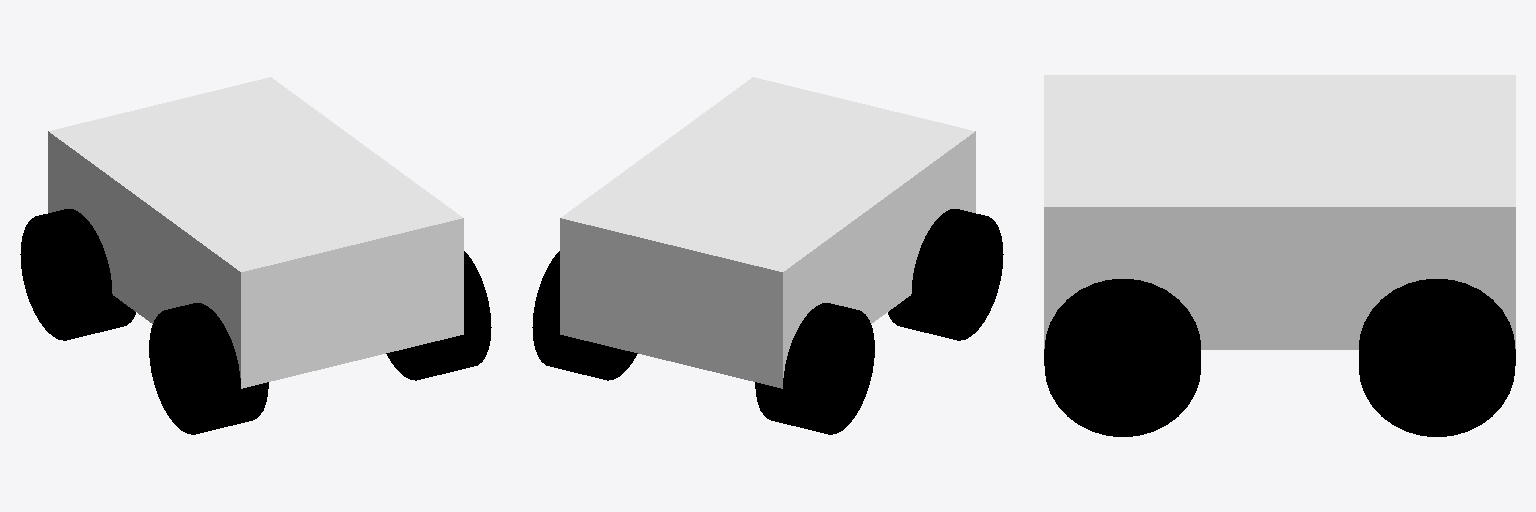
robot.urdf — robot1_simulation:
<?xml version="1.0" ?>
<!-- =================================================================================== -->
<!-- |    This document was autogenerated by xacro from robot1_simulation.xacro        | -->
<!-- |    EDITING THIS FILE BY HAND IS NOT RECOMMENDED                                 | -->
<!-- =================================================================================== -->
<robot name="robot1_simulation" xmlns:xacro="http://ros.org/wiki/xacro">
    <material name="black">
        <color rgba="0 0 0 1"/>
    </material>
    <link name="base_link"/>
    <joint name="body1_joint" type="fixed">
        <parent link="base_link"/>
        <child link="body_link"/>
        <origin rpy="0 0 0" xyz="0 0 0.075"/>
    </joint>
    <link name="body_link">
        <visual>
        <geometry>
            <box size="0.2 0.3 0.1"/>
        </geometry>
        <origin rpy="0 0 0" xyz="0 0 0"/>
        <material name="white">
            <color rgba="1 1 1 1"/>
        </material>
        </visual>
        <inertial>
        <origin rpy="0 0 0" xyz="0 0 0"/>
        <mass value="0.1"/>
        <inertia ixx="1" ixy="0" ixz="0" iyy="1" iyz="0" izz="1"/>
        </inertial>
        <collision>
        <origin rpy="0 0 0" xyz="0 0 0"/>
        <geometry>
            <cylinder length="0.048" radius="0.05"/>
        </geometry>
        </collision>
    </link>
    <gazebo reference="body_link">
        <material>Gazebo/white</material>
    </gazebo>
    <joint name="base_to_wheel1" type="continuous">
        <origin rpy="0 -1.57079632679 0" xyz="0.1 0.1 -0.05"/>
        <parent link="body_link"/>
        <child link="wheel1"/>
        <axis xyz="0 0 1"/>
        <!-- <limit lower="-1" upper="1" effort="1000" velocity="0.5"/> -->
    </joint>
    <link name="wheel1">
        <visual>
        <geometry>
            <cylinder length="0.05" radius="0.05"/>
        </geometry>
        <origin rpy="0 0 0" xyz="0 0 0"/>
        <material name="black"/>
        </visual>
        <inertial>
        <origin rpy="0 0 0" xyz="0 0 0"/>
        <mass value="0.1"/>
        <inertia ixx="1" ixy="0" ixz="0" iyy="1" iyz="0" izz="1"/>
        </inertial>
        <collision>
        <origin rpy="0 0 0" xyz="0 0 0"/>
        <geometry>
            <cylinder length="0.048" radius="0.05"/>
        </geometry>
        </collision>
    </link>
    <gazebo reference="wheel1">
        <material>Gazebo/black</material>
    </gazebo>
    <joint name="base_to_wheel2" type="continuous">
        <origin rpy="0 -1.57079632679 0" xyz="-0.1 0.1 -0.05"/>
        <parent link="body_link"/>
        <child link="wheel2"/>
        <axis xyz="0 0 1"/>
        <!-- <limit lower="-1" upper="1" effort="1000" velocity="0.5"/> -->
    </joint>
    <link name="wheel2">
        <visual>
        <geometry>
            <cylinder length="0.05" radius="0.05"/>
        </geometry>
        <origin rpy="0 0 0" xyz="0 0 0"/>
        <material name="black"/>
        </visual>
        <inertial>
        <origin rpy="0 0 0" xyz="0 0 0"/>
        <mass value="0.1"/>
        <inertia ixx="1" ixy="0" ixz="0" iyy="1" iyz="0" izz="1"/>
        </inertial>
        <collision>
        <origin rpy="0 0 0" xyz="0 0 0"/>
        <geometry>
            <cylinder length="0.048" radius="0.05"/>
        </geometry>
        </collision>
    </link>
    <gazebo reference="wheel2">
        <material>Gazebo/black</material>
    </gazebo>
    <joint name="base_to_wheel3" type="continuous">
        <origin rpy="0 -1.57079632679 0" xyz="0.1 -0.1 -0.05"/>
        <parent link="body_link"/>
        <child link="wheel3"/>
        <axis xyz="0 0 1"/>
        <!-- <limit lower="-1" upper="1" effort="1000" velocity="0.5"/> -->
    </joint>
    <link name="wheel3">
        <visual>
        <geometry>
            <cylinder length="0.05" radius="0.05"/>
        </geometry>
        <origin rpy="0 0 0" xyz="0 0 0"/>
        <material name="black"/>
        </visual>
        <inertial>
        <origin rpy="0 0 0" xyz="0 0 0"/>
        <mass value="0.1"/>
        <inertia ixx="1" ixy="0" ixz="0" iyy="1" iyz="0" izz="1"/>
        </inertial>
        <collision>
        <origin rpy="0 0 0" xyz="0 0 0"/>
        <geometry>
            <cylinder length="0.048" radius="0.05"/>
        </geometry>
        </collision>
    </link>
    <gazebo reference="wheel3">
        <material>Gazebo/black</material>
    </gazebo>
    <joint name="base_to_wheel4" type="continuous">
        <origin rpy="0 -1.57079632679 0" xyz="-0.1 -0.1 -0.05"/>
        <parent link="body_link"/>
        <child link="wheel4"/>
        <axis xyz="0 0 1"/>
        <!-- <limit lower="-1" upper="1" effort="1000" velocity="0.5"/> -->
    </joint>
    <link name="wheel4">
        <visual>
        <geometry>
            <cylinder length="0.05" radius="0.05"/>
        </geometry>
        <origin rpy="0 0 0" xyz="0 0 0"/>
        <material name="black"/>
        </visual>
        <inertial>
        <origin rpy="0 0 0" xyz="0 0 0"/>
        <mass value="0.1"/>
        <inertia ixx="1" ixy="0" ixz="0" iyy="1" iyz="0" izz="1"/>
        </inertial>
        <collision>
        <origin rpy="0 0 0" xyz="0 0 0"/>
        <geometry>
            <cylinder length="0.048" radius="0.05"/>
        </geometry>
        </collision>
    </link>
    <gazebo reference="wheel4">
        <material>Gazebo/black</material>
    </gazebo>
</robot>

--- What the picture shows (computed from the rendered views, not written in the file) ---
3 views of the same robot in one strip: view 1: azimuth 30°, elevation 25°; view 2: azimuth 150°, elevation 25°; view 3: azimuth 270°, elevation 25° (orthographic).
Model robot1_simulation with 6 links and 5 joints (4 continuous, 1 fixed), rooted at base_link, posed every joint at zero.
Links seen in each view (by area): view 1: body_link, wheel4, wheel2, wheel3; view 2: body_link, wheel2, wheel4, wheel1; view 3: body_link, wheel1, wheel3.
Link boxes in pixels (left/top/right/bottom): body_link: left=48, top=77, right=463, bottom=388; wheel4: left=149, top=303, right=268, bottom=434; wheel2: left=20, top=209, right=135, bottom=340; wheel3: left=386, top=251, right=491, bottom=380; body_link: left=560, top=77, right=975, bottom=388; wheel2: left=755, top=303, right=874, bottom=434; wheel4: left=888, top=209, right=1003, bottom=340; wheel1: left=532, top=251, right=637, bottom=380; body_link: left=1044, top=75, right=1515, bottom=349; wheel1: left=1359, top=279, right=1515, bottom=436; wheel3: left=1044, top=279, right=1200, bottom=436.
Size in the robot's own frame: 0.25 by 0.3 by 0.15 metres.
Geometry: primitives only (box / cylinder / sphere), no mesh files.